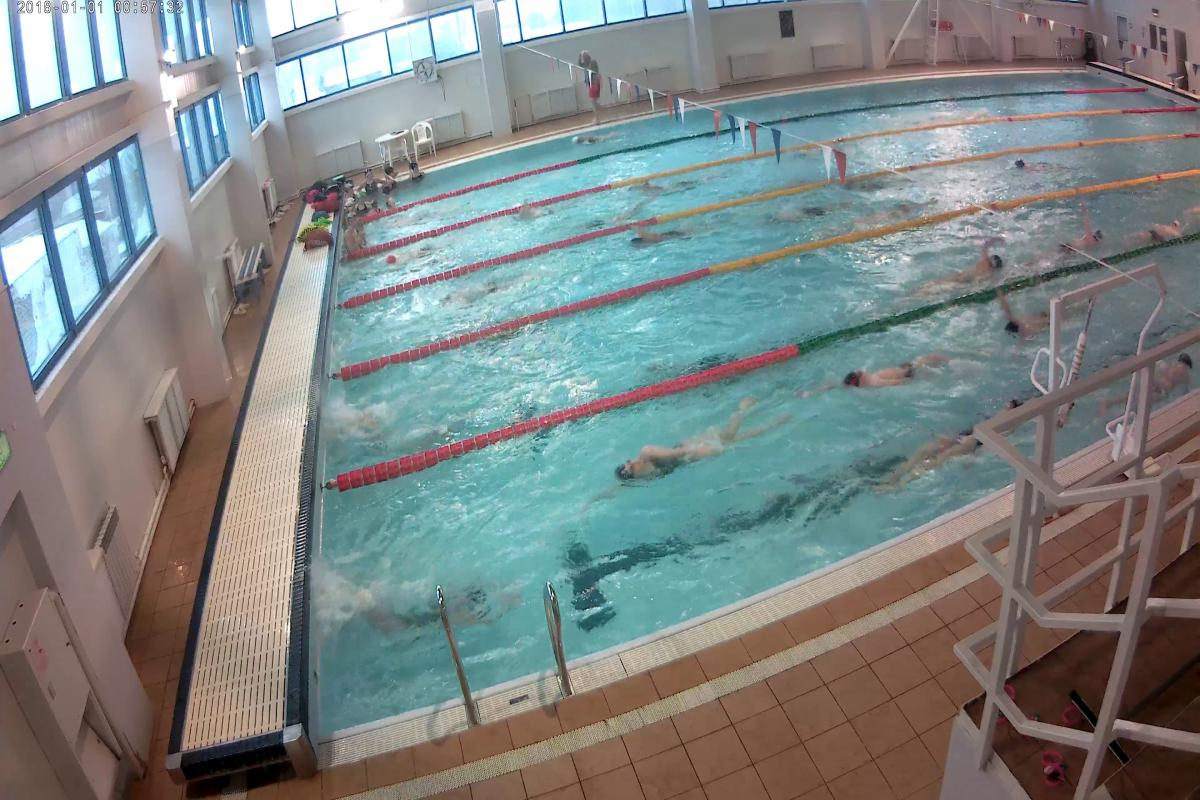swimmer: (604, 416, 776, 490), (800, 351, 960, 409), (939, 234, 1011, 292), (1044, 202, 1108, 261), (983, 304, 1047, 350), (621, 230, 695, 258), (1127, 212, 1185, 243), (1014, 155, 1054, 181)
